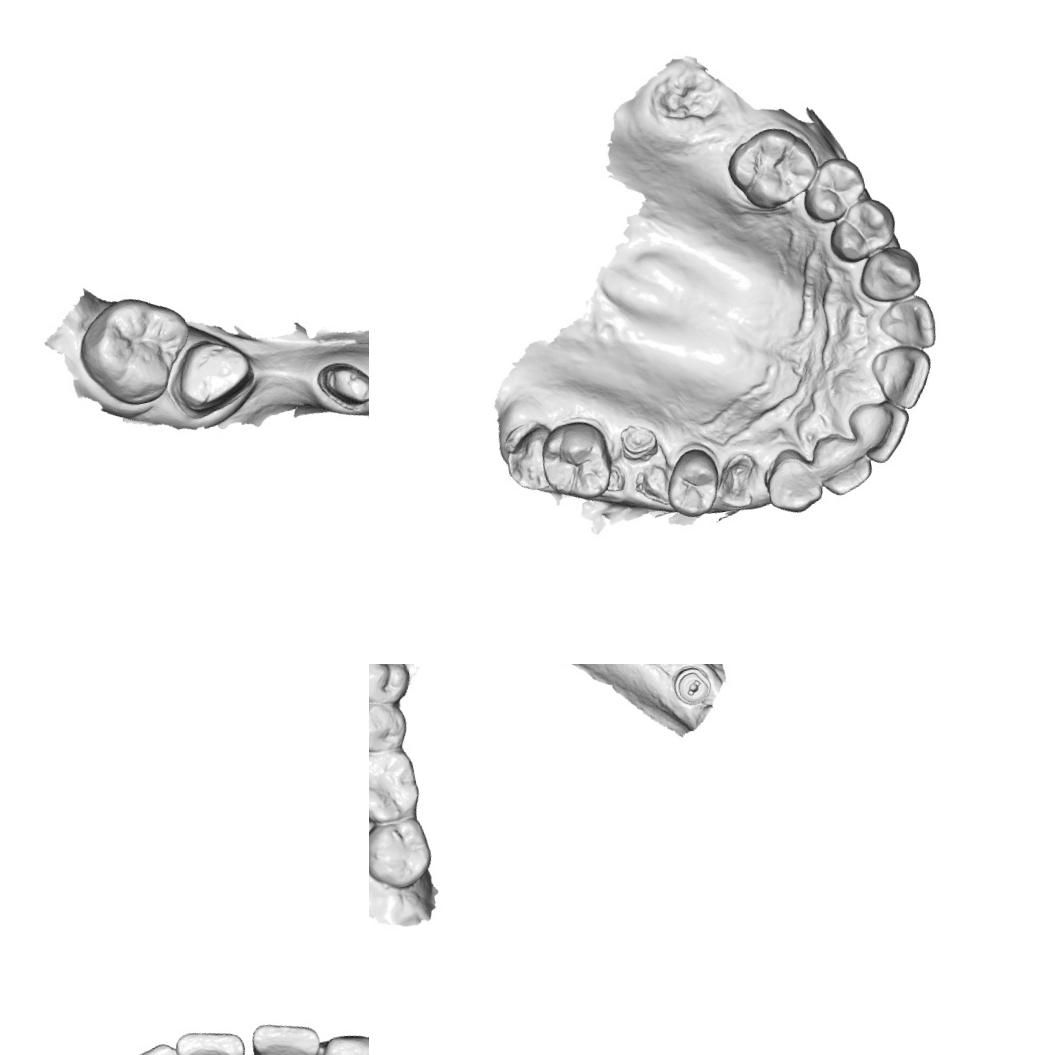canine: (760, 444, 825, 516), (853, 242, 923, 306)
crown: (160, 329, 264, 424), (308, 350, 369, 419)
implant_minus: (666, 664, 719, 710)
incisor: (867, 340, 939, 414), (845, 394, 916, 467), (872, 291, 940, 355), (810, 439, 877, 500), (246, 1012, 332, 1055), (173, 1018, 258, 1055)
molar: (68, 285, 202, 415), (721, 120, 824, 216), (534, 414, 617, 506), (369, 814, 437, 895), (369, 745, 424, 829)
premolar: (822, 192, 902, 266), (795, 152, 871, 227), (658, 444, 726, 522), (369, 696, 412, 760), (369, 664, 414, 707)
